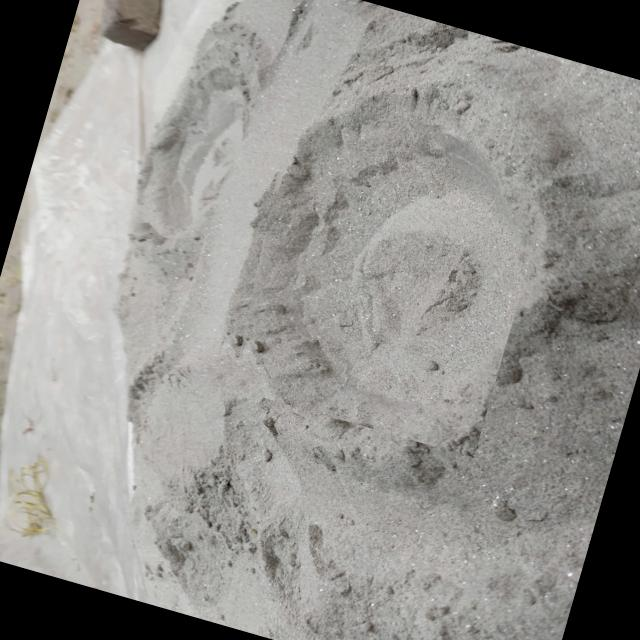C20: (244, 95, 529, 408), (168, 85, 246, 226)
